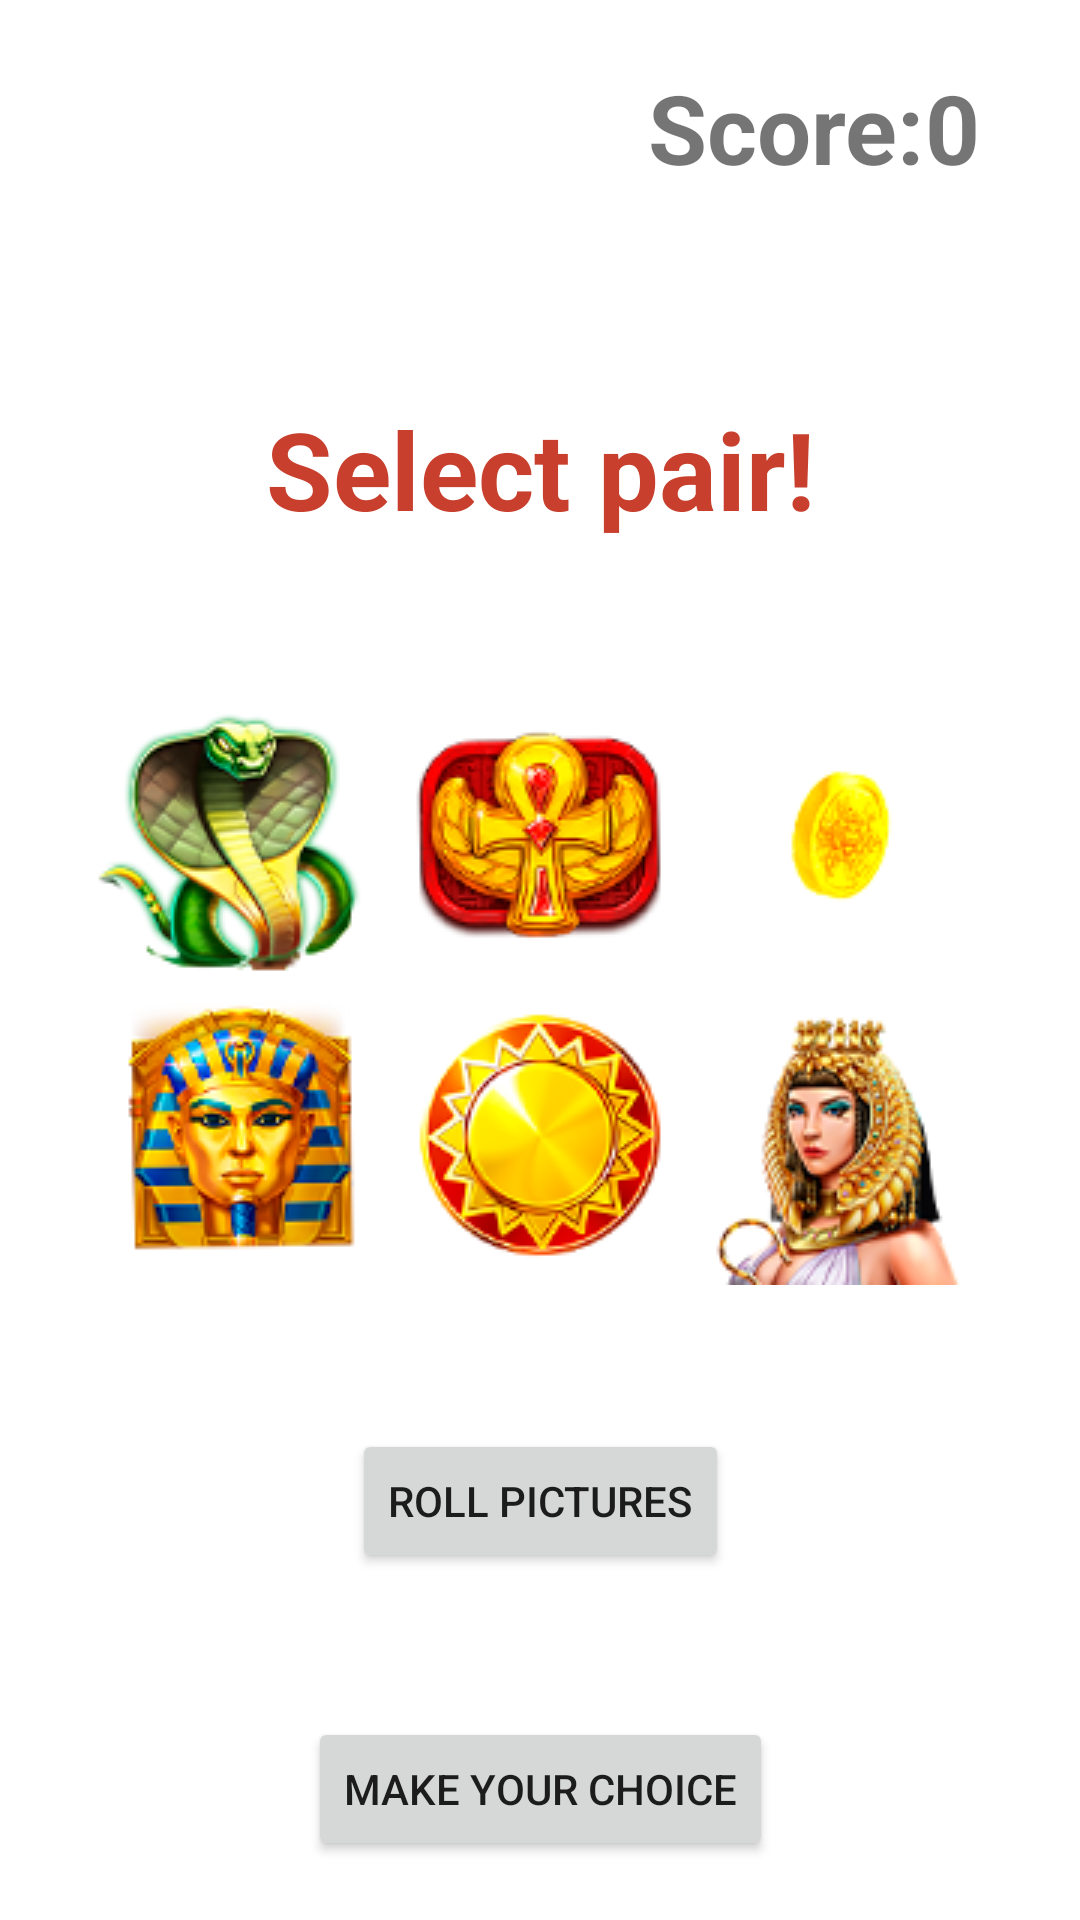

Locate icon controls on the screen. Image size 1080px×1920px, boxes as {"x1": x1, "y1": y1, "x2": x2, "y2": y2}.
coin: {"x1": 791, "y1": 771, "x2": 891, "y2": 900}
cross: {"x1": 417, "y1": 732, "x2": 661, "y2": 938}
gold plate: {"x1": 419, "y1": 1014, "x2": 661, "y2": 1256}
pharaon: {"x1": 128, "y1": 1006, "x2": 355, "y2": 1250}
snake: {"x1": 98, "y1": 716, "x2": 358, "y2": 971}
